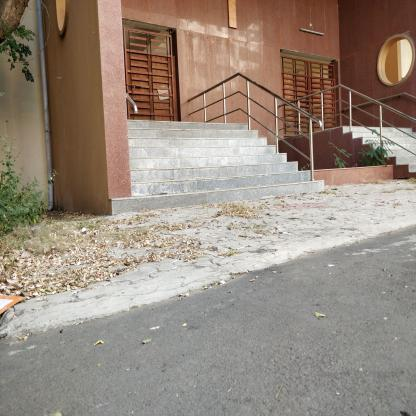stairs: (132, 120, 246, 212)
